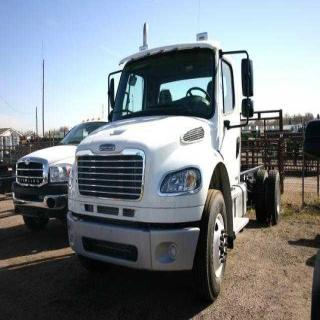Towing_truck: (64, 23, 286, 304)
